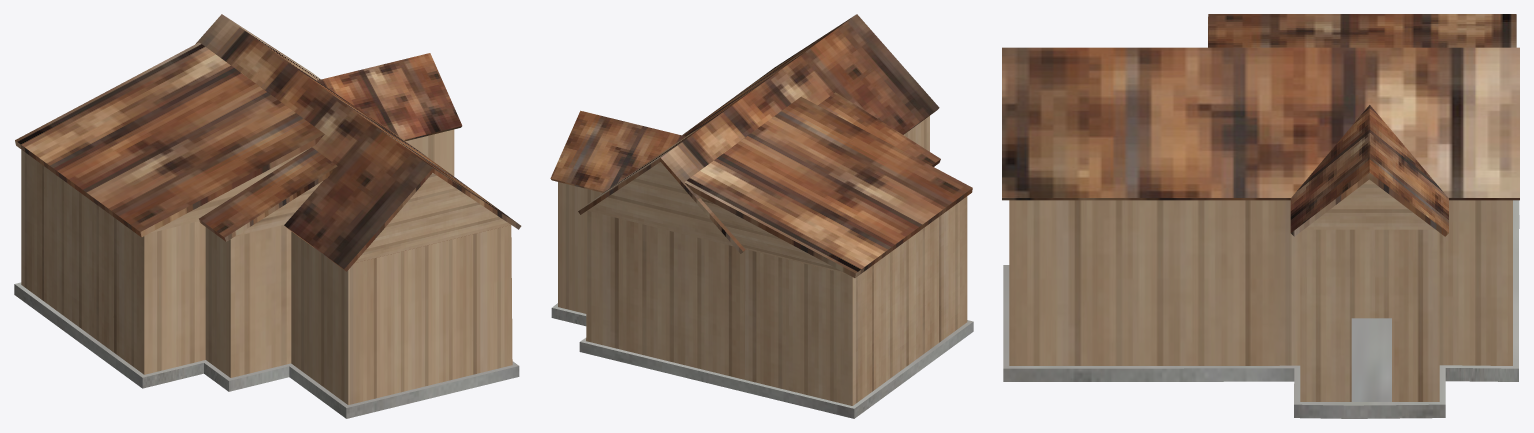
Rendered from house_exterior.fbx.
3 renders of one model, left to right at view 1: azimuth 30°, elevation 25°; view 2: azimuth 150°, elevation 25°; view 3: azimuth 270°, elevation 25°, orthographic. The views are drawn at different scales.
Visible parts, largest first — view 1: house.001; view 2: house.001; view 3: house.001.
Part boxes in pixels (left/top/right/bottom): house.001: left=14, top=14, right=521, bottom=418; house.001: left=550, top=14, right=973, bottom=418; house.001: left=1002, top=14, right=1519, bottom=418.
Bounding box in the file's own units: 3303 × 2032 × 3378.
